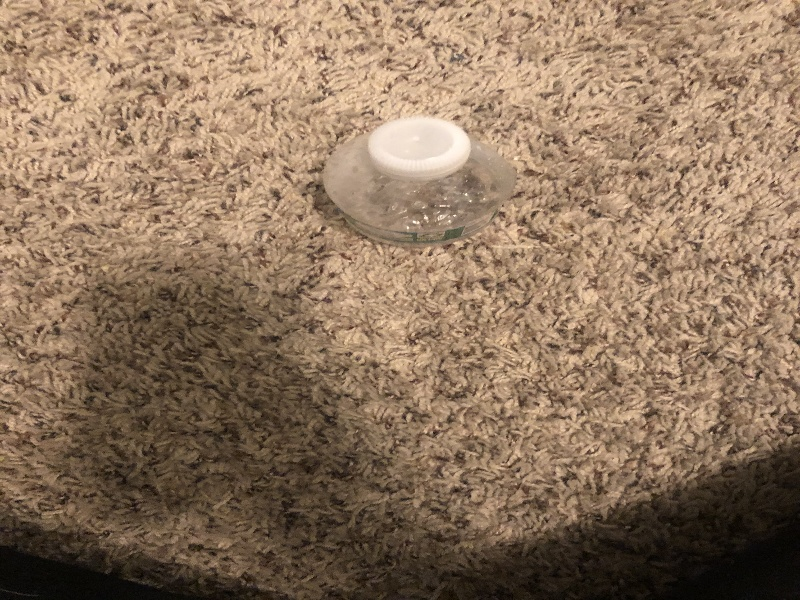plastic: (316, 112, 525, 253)
